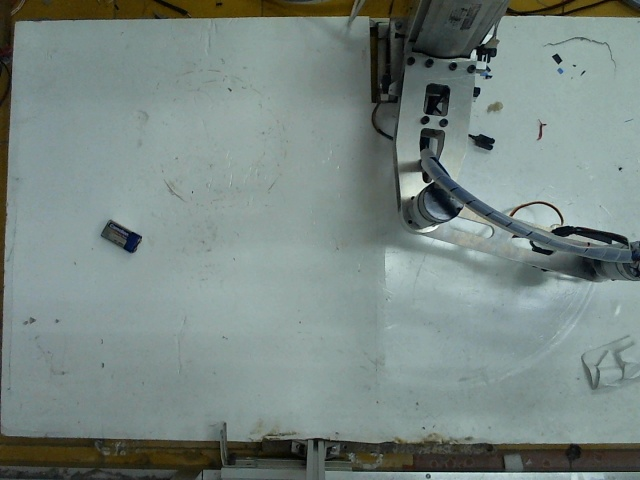battery: (100, 215, 144, 254)
